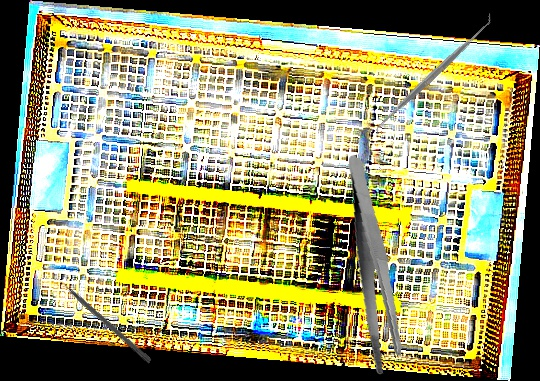Dressing Forceps: (326, 154, 422, 378)
Pusher: (53, 273, 153, 364)
Spatula Surgical: (367, 11, 501, 137)
